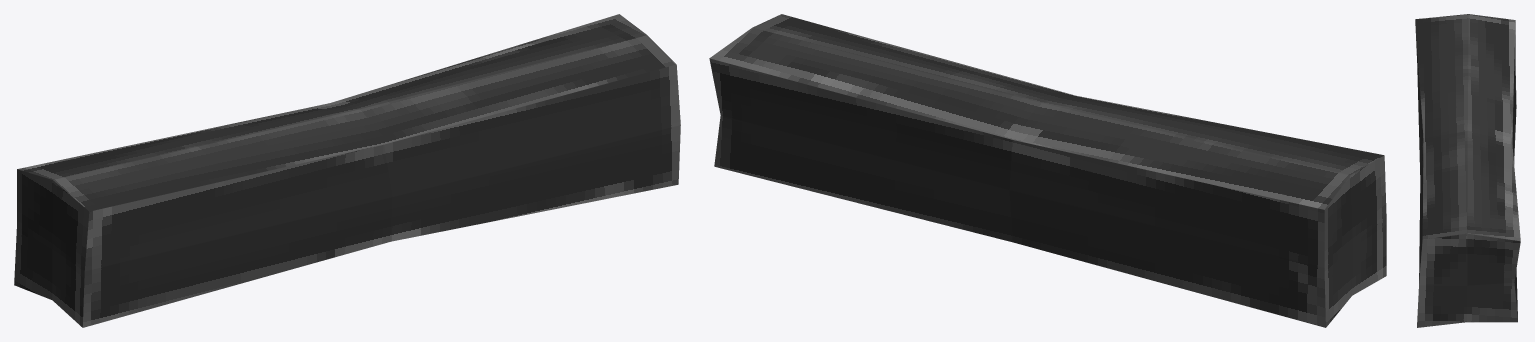
The model's file is stone2.glb.
The picture shows the model from 3 angles, left to right: view 1: azimuth 30°, elevation 25°; view 2: azimuth 150°, elevation 25°; view 3: azimuth 270°, elevation 25°; orthographic projection. The views are drawn at different scales.
Parts seen in each view (by area): view 1: Cube; view 2: Cube; view 3: Cube.
Part boxes in pixels (box(x1,y1,x2,y2)): Cube: box(14, 14, 680, 327); Cube: box(709, 14, 1386, 327); Cube: box(1415, 14, 1520, 327).
Bounding box in the file's own units: 11.06 × 2.21 × 2.19.
1 material, 1 textured.
